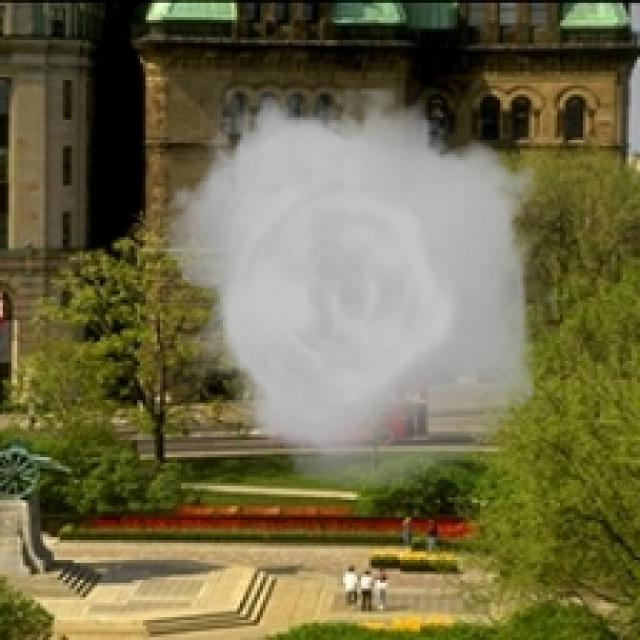smoke: (152, 89, 557, 492)
